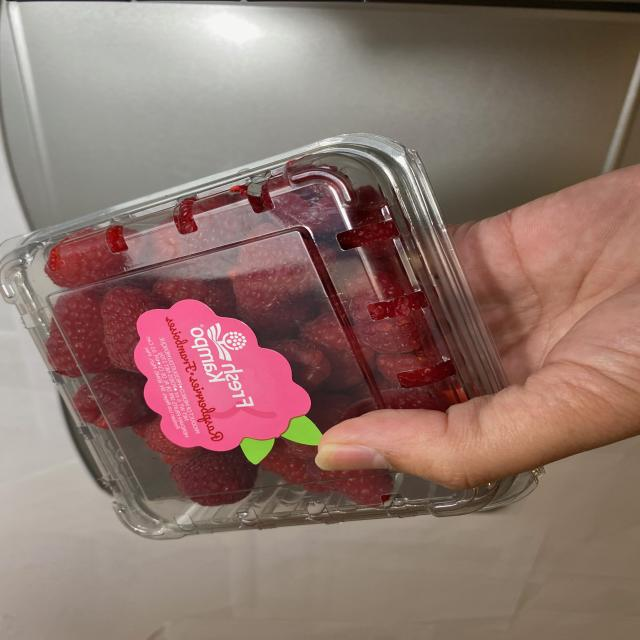raspberries: (14, 185, 407, 518)
